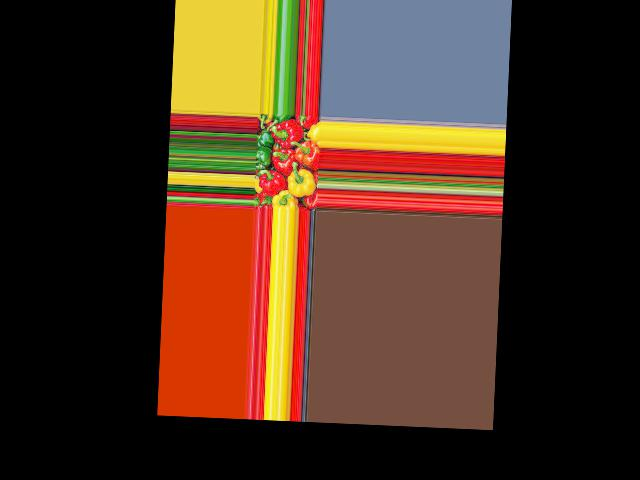bell_pepper: (307, 124, 321, 141)
